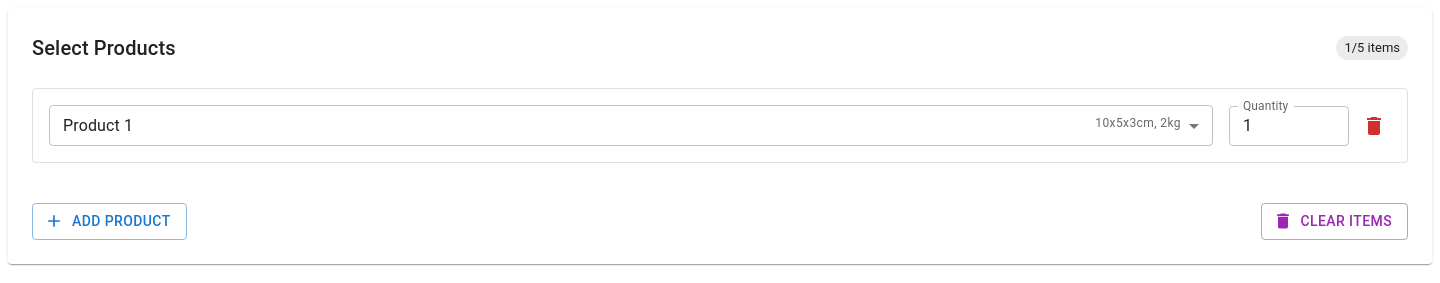
Test: ProductSelector Component › renders product options correctly
This screenshot has width=1440, height=283.
Expected: the text "Product 1" is shown, [63, 114, 133, 138]
Press the mouse on the dropdown at [98, 125], box [63, 116, 1181, 134]
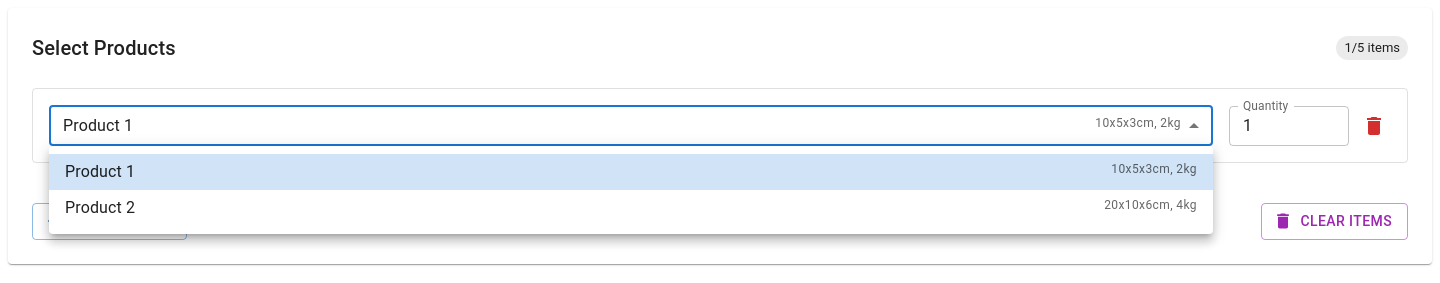
Expected: the 1st text "Product 1" is shown, [63, 114, 133, 138]
Expected: the text "Product 2" is shown, [65, 196, 135, 220]
